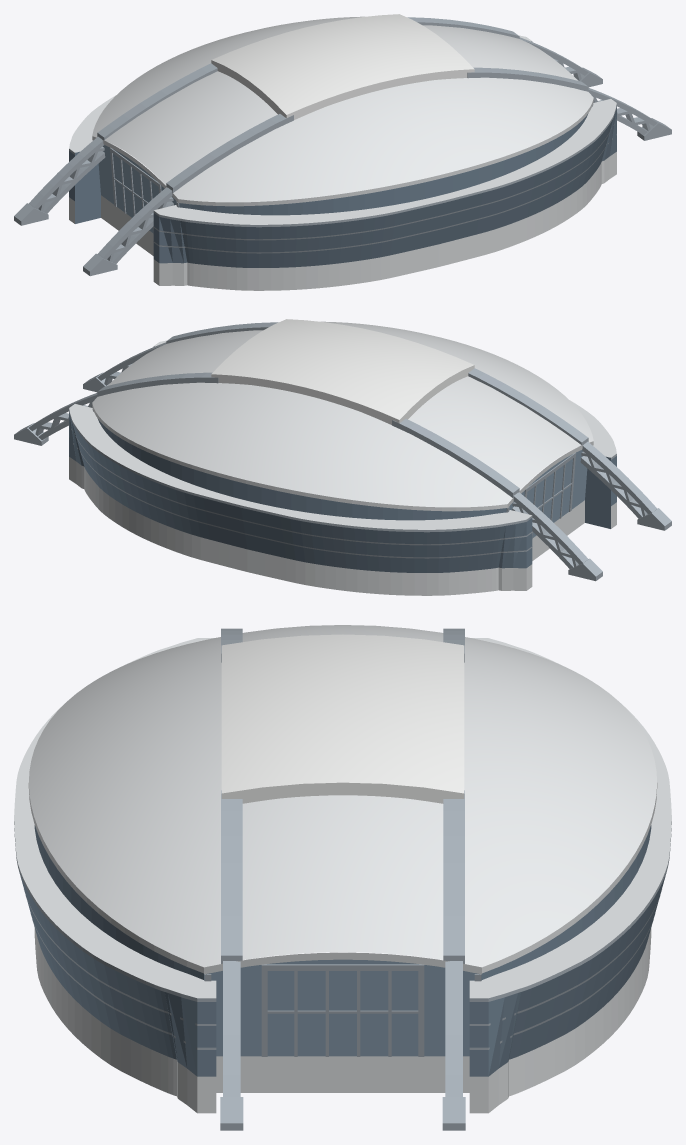
File: dal-att-stadium.glb
3 views of the same model, one above another, from view 1: azimuth 30°, elevation 25°; view 2: azimuth 150°, elevation 25°; view 3: azimuth 270°, elevation 25° (orthographic). The views are drawn at different scales.
Visible parts, largest first — view 1: AT&T Stadium; view 2: AT&T Stadium; view 3: AT&T Stadium.
Part boxes in pixels (<box>): AT&T Stadium: <box>14,14,671,290</box>; AT&T Stadium: <box>14,319,671,595</box>; AT&T Stadium: <box>14,625,671,1130</box>.
Bounding box in the file's own units: 402 × 98.3 × 244.
